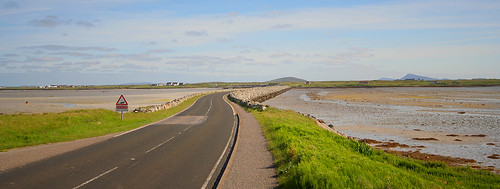grass: (268, 107, 460, 189), (1, 102, 167, 147)
sign: (111, 90, 132, 112)
sky: (5, 1, 500, 83)
street: (1, 93, 253, 189)
